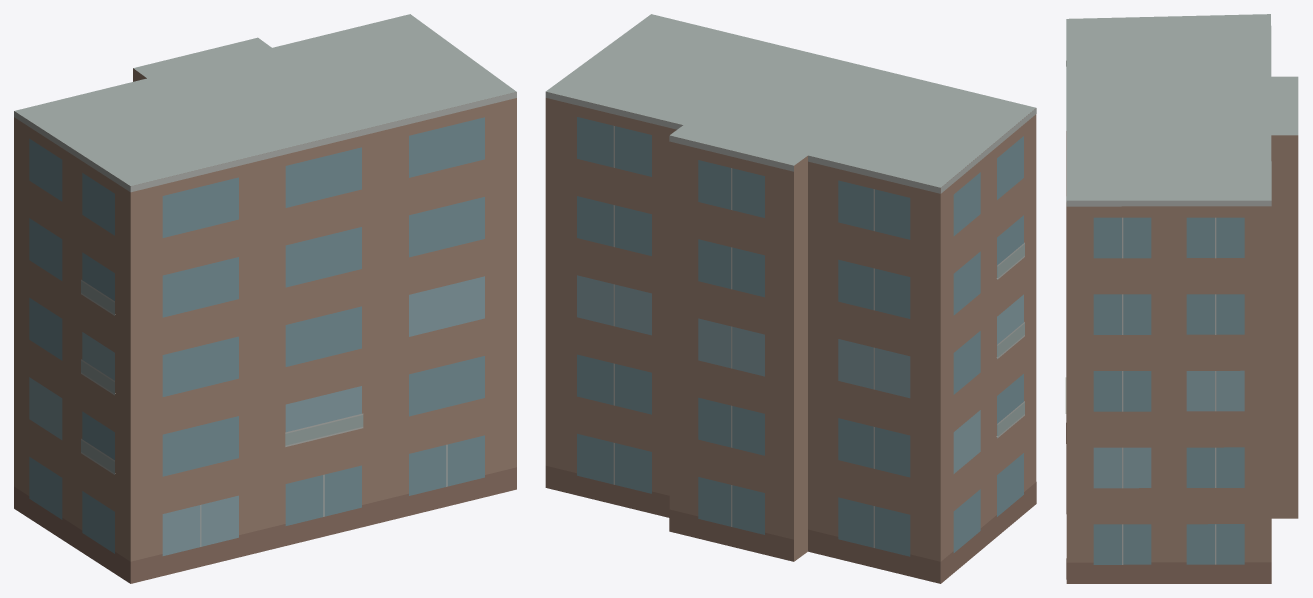
The model's file is survey-upis-32751910.glb.
3 views of the same model, side by side, from view 1: azimuth 30°, elevation 25°; view 2: azimuth 150°, elevation 25°; view 3: azimuth 270°, elevation 25° (orthographic). The views are drawn at different scales.
Visible parts, largest first — view 1: survey-upis-32751910.tmp; view 2: survey-upis-32751910.tmp; view 3: survey-upis-32751910.tmp.
Part boxes in pixels (left/top/right/bottom): survey-upis-32751910.tmp: left=14, top=14, right=516, bottom=583; survey-upis-32751910.tmp: left=545, top=14, right=1036, bottom=583; survey-upis-32751910.tmp: left=1065, top=14, right=1298, bottom=583.
Size of the model in its own units: 16.51 by 15.8 by 8.72.
